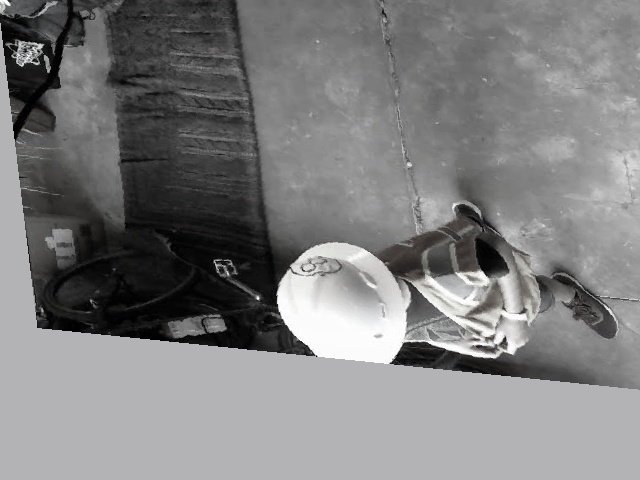eight: (285, 251, 341, 281)
